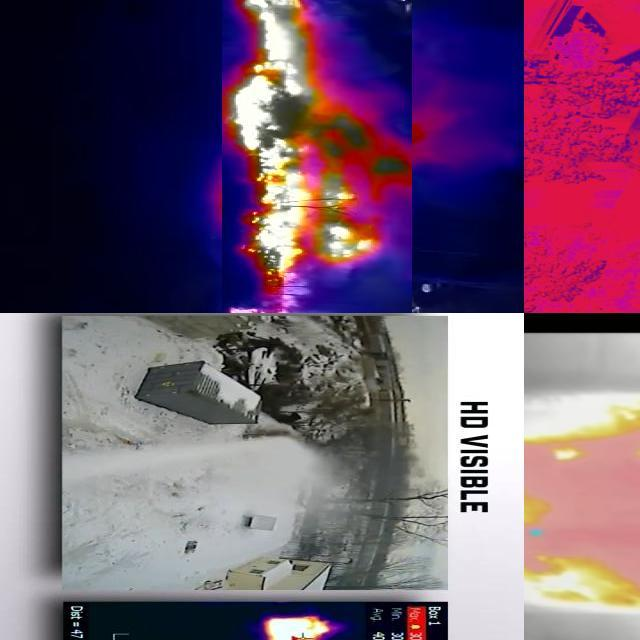fire: (223, 1, 413, 314), (525, 396, 640, 640), (262, 616, 336, 640)
